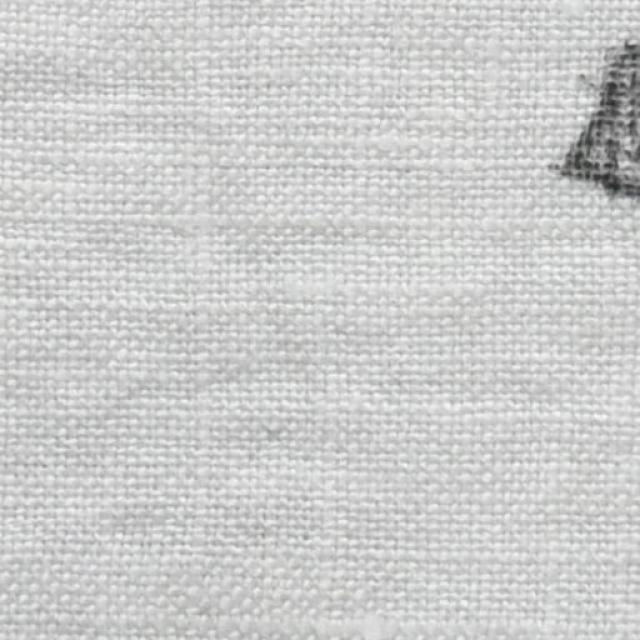Stain: (545, 38, 639, 206)
